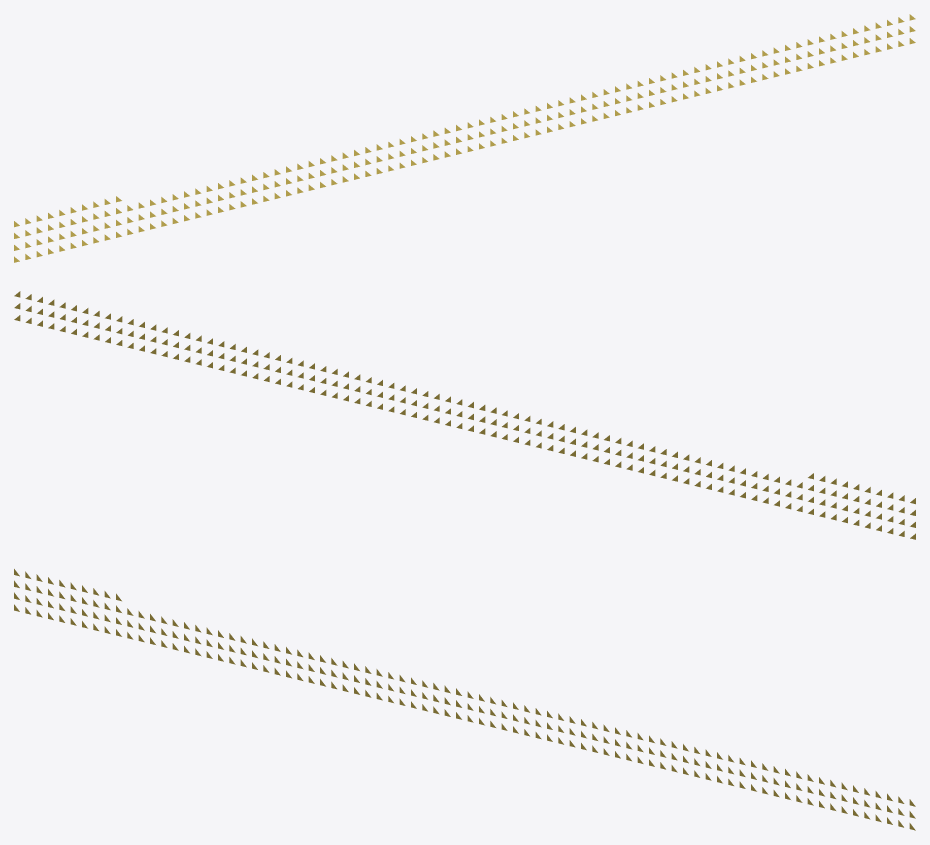
3 renders of one model, top to bottom at view 1: azimuth 30°, elevation 25°; view 2: azimuth 150°, elevation 25°; view 3: azimuth 330°, elevation 25°, orthographic.
Parts seen in each view (by area): view 1: scene-1_props; view 2: scene-1_props; view 3: scene-1_props.
Boxes of the visible parts, left/top/right/bottom form: scene-1_props: left=14, top=14, right=915, bottom=262; scene-1_props: left=14, top=291, right=915, bottom=539; scene-1_props: left=14, top=569, right=915, bottom=830.
Size of the model in its own units: 1.43 by 0.064 by 0.
